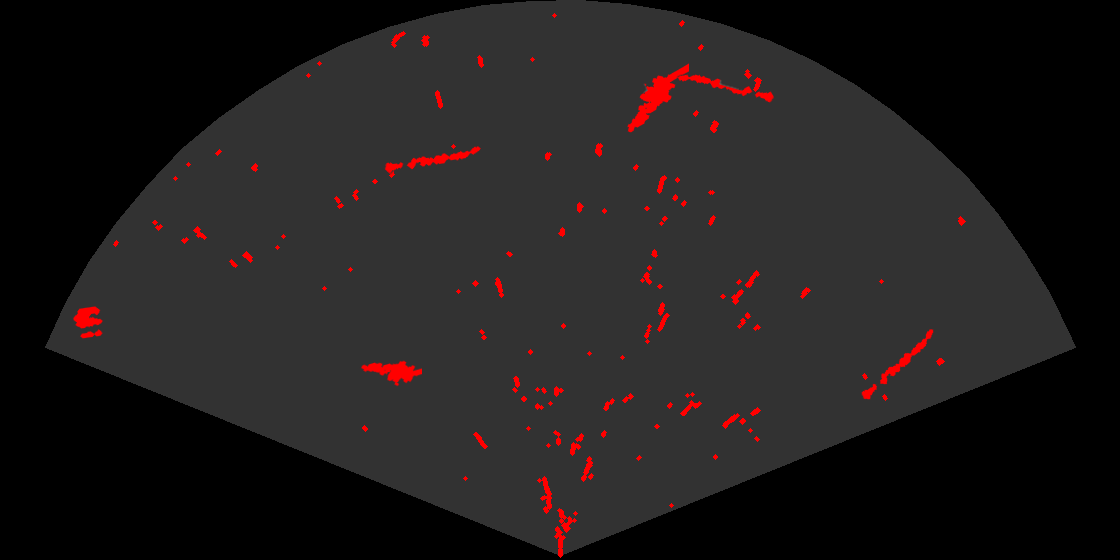ball: (72, 305, 104, 340)
chain: (860, 328, 935, 401), (676, 73, 776, 104), (382, 145, 482, 175)
frogman: (626, 63, 689, 134), (359, 359, 422, 388)
